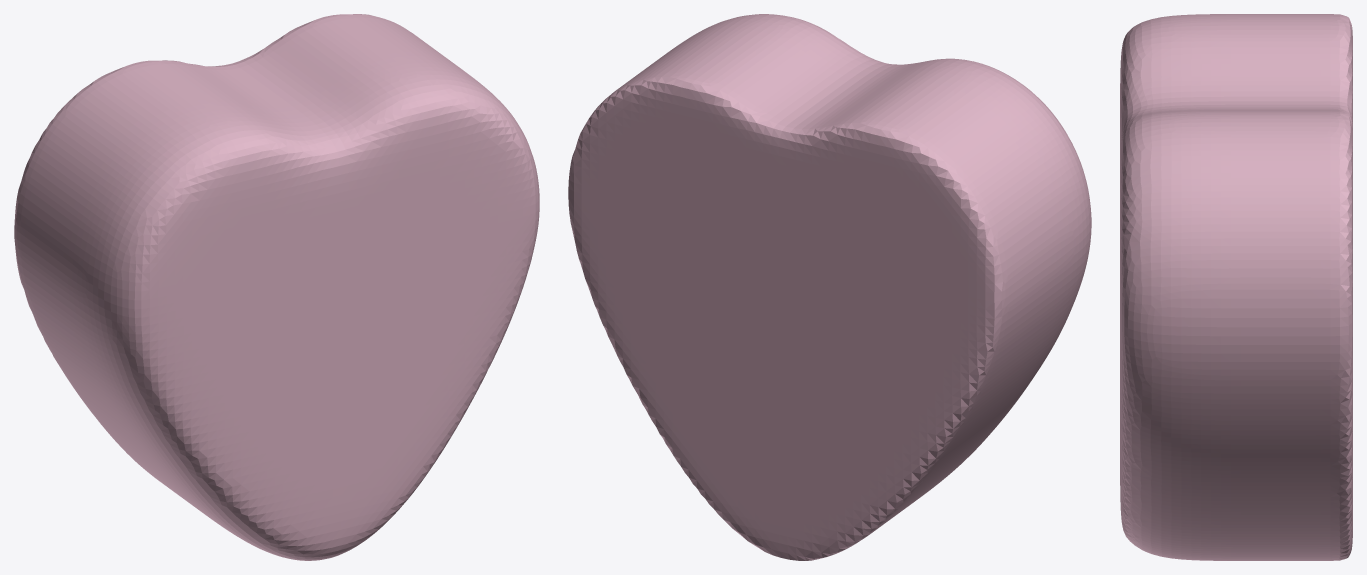
Rendered from Conversation_Bullet_Pink.glb.
3 renders of one model, left to right at view 1: azimuth 30°, elevation 25°; view 2: azimuth 150°, elevation 25°; view 3: azimuth 270°, elevation 25°, orthographic. The views are drawn at different scales.
Parts seen in each view (by area): view 1: upper right conversation heart; view 2: upper right conversation heart; view 3: upper right conversation heart.
Boxes of the visible parts, box(x1,y1,x2,y2) form: upper right conversation heart: box(14, 14, 539, 560); upper right conversation heart: box(568, 14, 1091, 560); upper right conversation heart: box(1120, 14, 1352, 560).
Size of the model in its own units: 1.93 by 1.94 by 0.859.
